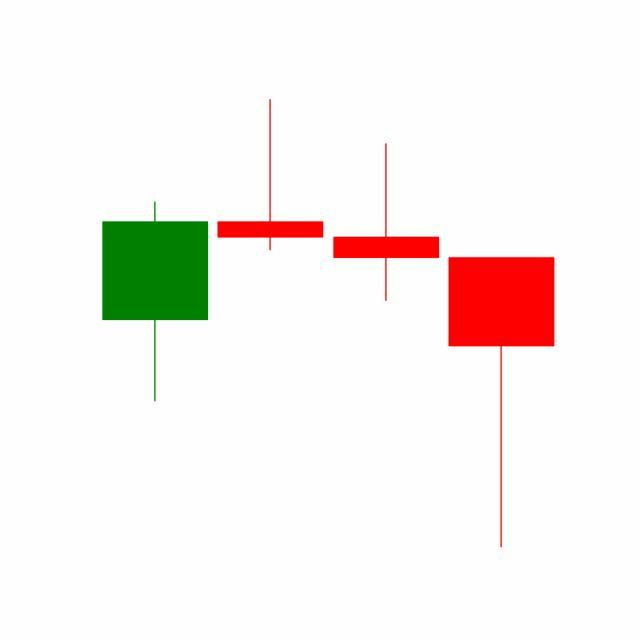Spinning Top: (329, 142, 445, 304)
